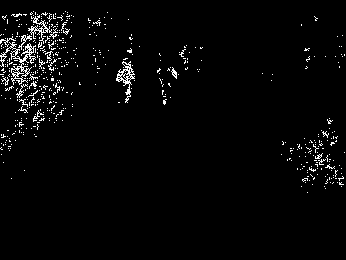person: (153, 52, 177, 106), (116, 58, 136, 105), (180, 45, 192, 71)
